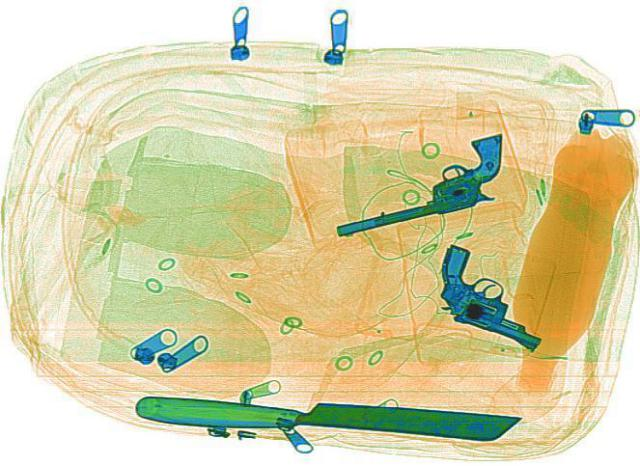Gun: (308, 130, 534, 238), (397, 240, 583, 351)
Knife: (131, 387, 521, 441)
